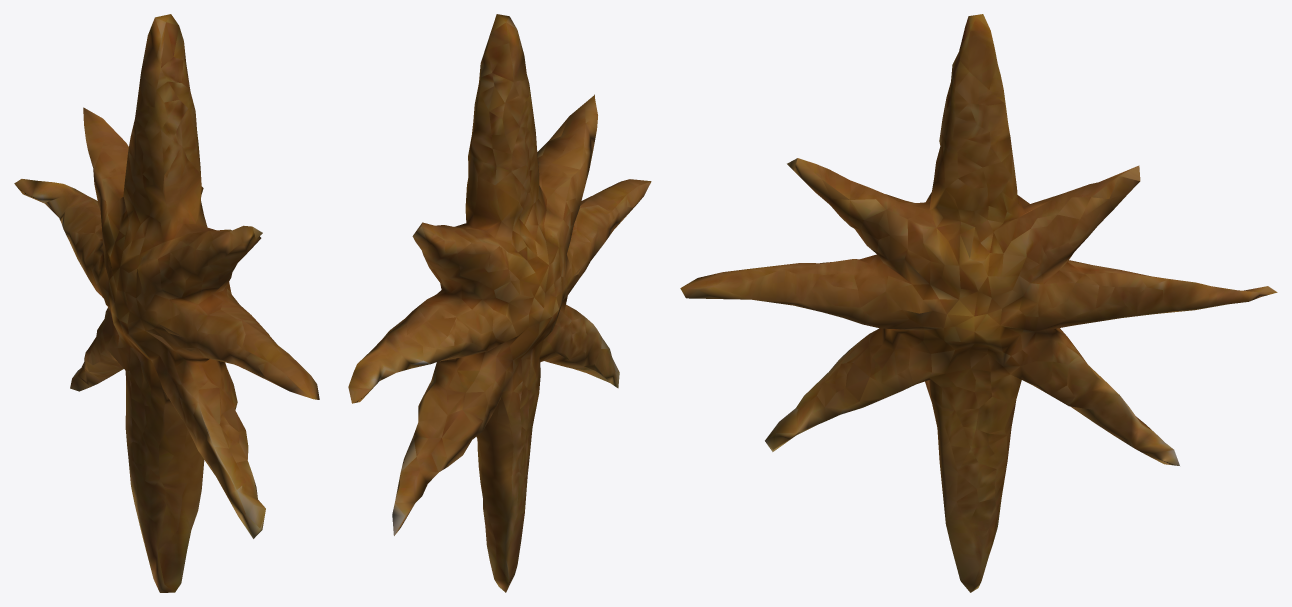
File: star.glb
3 views of the same model, side by side, from view 1: azimuth 30°, elevation 25°; view 2: azimuth 150°, elevation 25°; view 3: azimuth 270°, elevation 25° (orthographic).
Parts seen in each view (by area): view 1: Star; view 2: Star; view 3: Star.
Boxes of the visible parts, <box> form: Star: <box>14,14,319,592</box>; Star: <box>348,14,651,592</box>; Star: <box>680,14,1277,592</box>.
Size of the model in its own units: 0.1734 by 0.9925 by 0.9338.
1 material, 1 textured.
